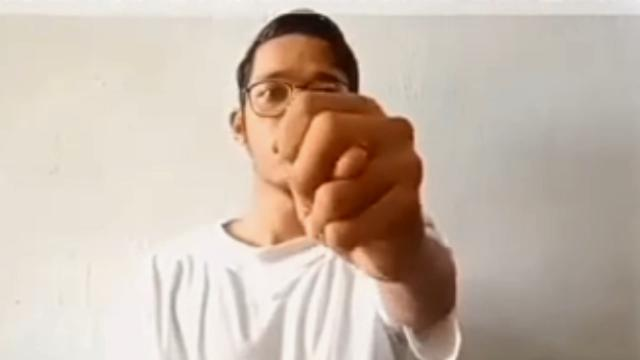N: (268, 92, 436, 280)
